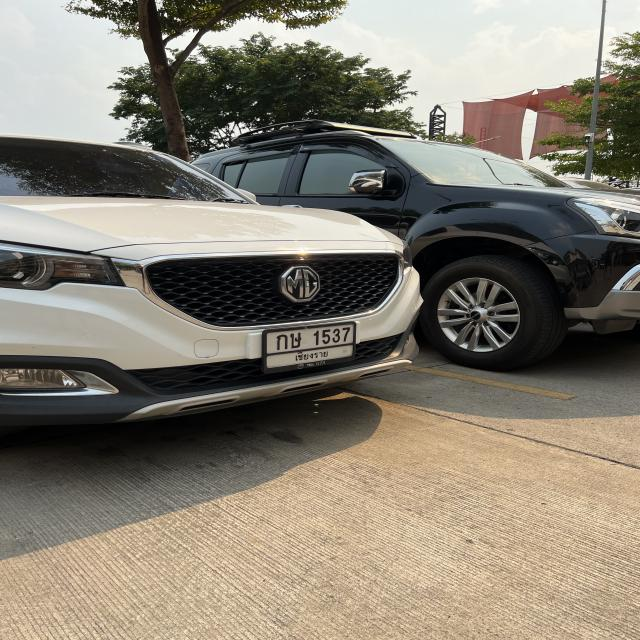license_plate: (262, 320, 359, 376)
